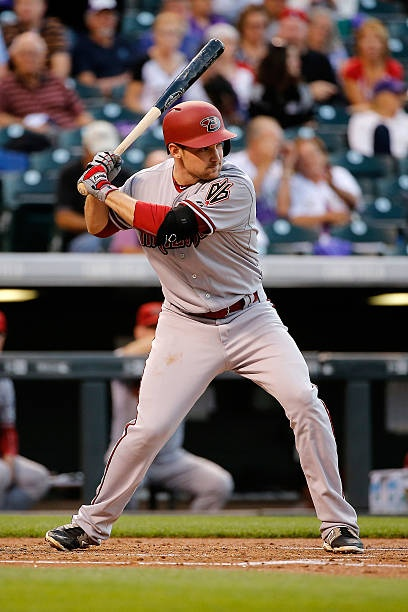bita: (93, 31, 219, 188)
